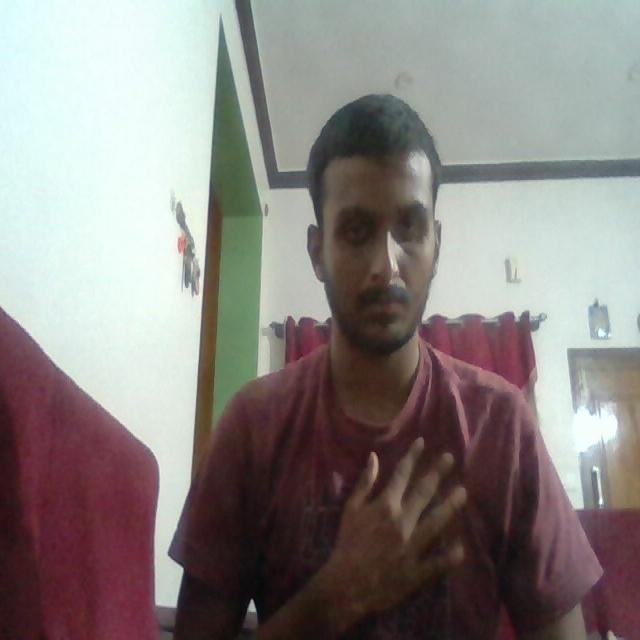please: (312, 424, 482, 602)
